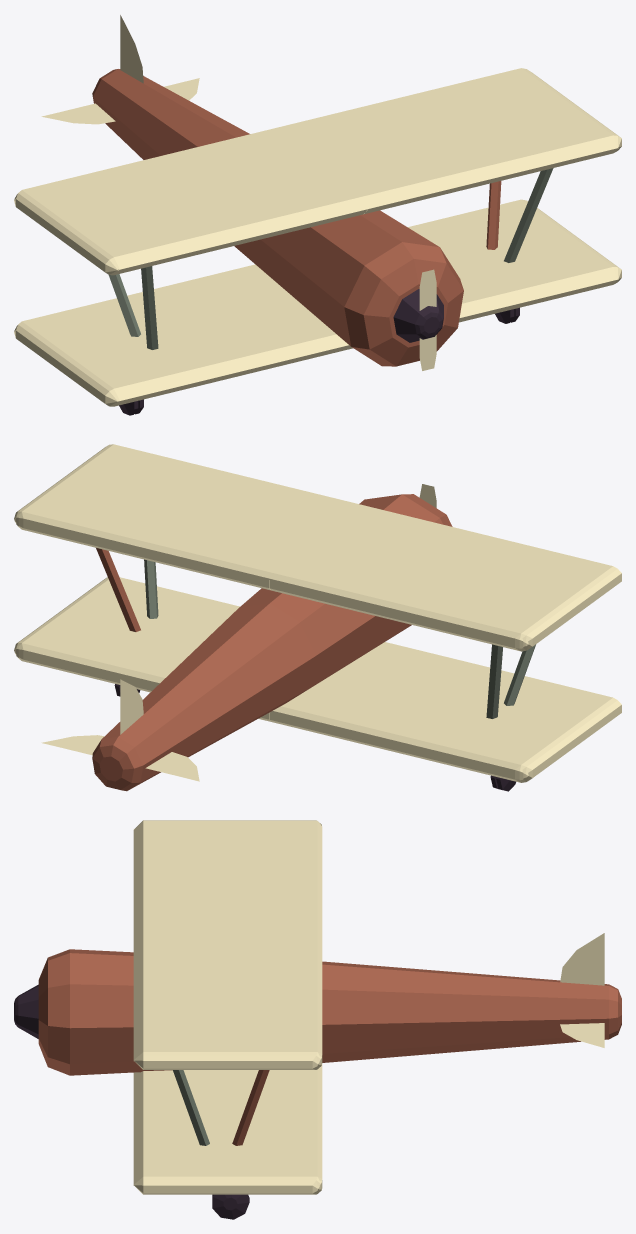
The model's file is avion.glb.
The picture shows the model from 3 angles, top to bottom: view 1: azimuth 30°, elevation 25°; view 2: azimuth 150°, elevation 25°; view 3: azimuth 270°, elevation 25°; orthographic projection. The views are drawn at different scales.
Visible parts, largest first — view 1: avion; view 2: avion; view 3: avion.
Boxes of the visible parts, x1,y1,x2,y2 form: avion: (14, 15, 621, 415); avion: (14, 444, 621, 791); avion: (14, 820, 621, 1219).
Size of the model in its own units: 6 by 2.31 by 6.45.
